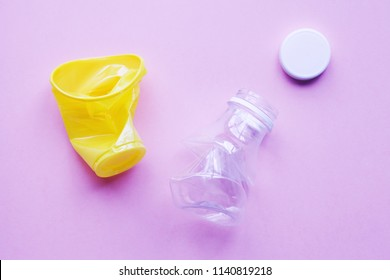plastic_glass: (162, 85, 286, 234), (45, 49, 155, 184)
